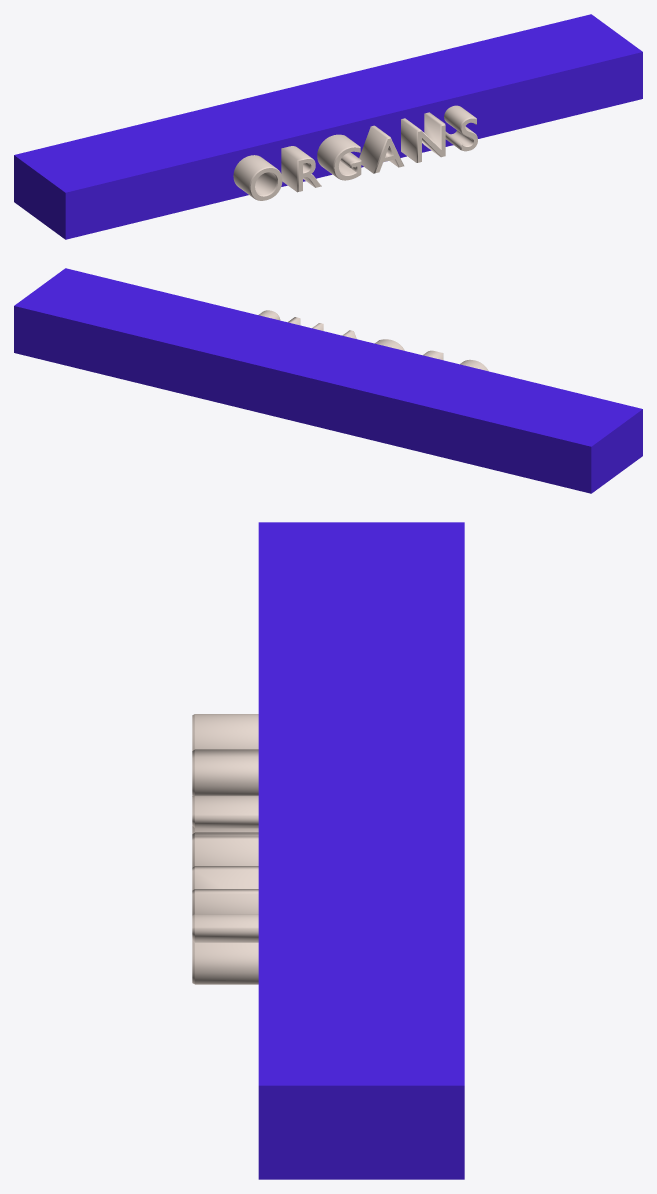
The model's file is organs.gltf.
3 views of the same model, one above another, from view 1: azimuth 30°, elevation 25°; view 2: azimuth 150°, elevation 25°; view 3: azimuth 270°, elevation 25° (orthographic). The views are drawn at different scales.
Parts seen in each view (by area): view 1: Cube.002, CEELS.002; view 2: Cube.002, CEELS.002; view 3: Cube.002, CEELS.002.
Part boxes in pixels (left/top/right/bottom): Cube.002: left=14, top=14, right=642, bottom=239; CEELS.002: left=233, top=105, right=477, bottom=200; Cube.002: left=14, top=268, right=642, bottom=493; CEELS.002: left=258, top=310, right=488, bottom=371; Cube.002: left=258, top=522, right=464, bottom=1179; CEELS.002: left=192, top=714, right=258, bottom=984.
Bounding box in the file's own units: 8.55 × 0.6658 × 1.75.
